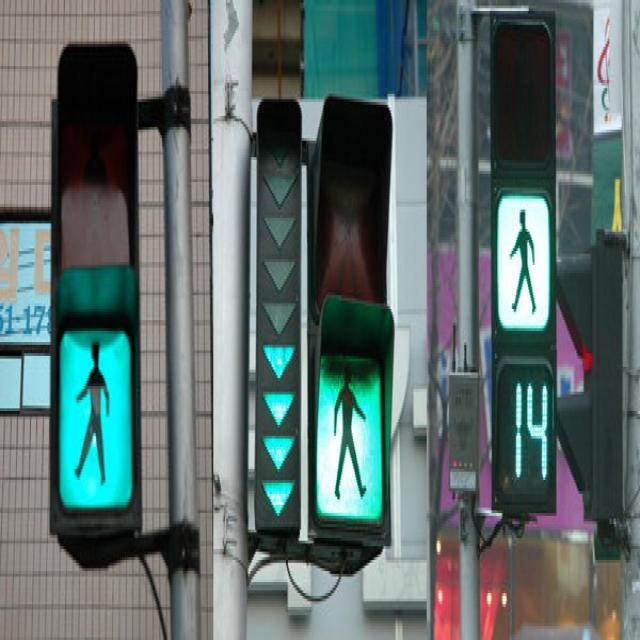Go: (484, 10, 565, 548), (313, 113, 403, 586), (61, 66, 142, 524), (302, 314, 402, 582), (488, 172, 562, 502)
